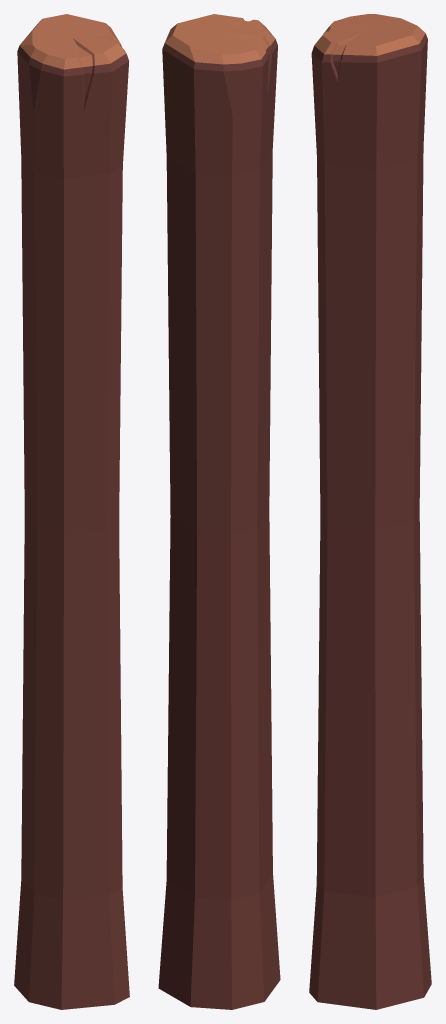
Rendered from Wooden Pole Blunt 15.fbx.
The picture shows the model from 3 angles, left to right: view 1: azimuth 90°, elevation 25°; view 2: azimuth 150°, elevation 25°; view 3: azimuth 330°, elevation 25°; orthographic projection.
Visible parts, largest first — view 1: Wooden Pole Blunt 15; view 2: Wooden Pole Blunt 15; view 3: Wooden Pole Blunt 15.
Boxes of the visible parts, x1,y1,x2,y2 form: Wooden Pole Blunt 15: [14, 14, 129, 1009]; Wooden Pole Blunt 15: [158, 14, 280, 1009]; Wooden Pole Blunt 15: [309, 14, 431, 1009].
Bounding box in the file's own units: 30.39 × 273 × 30.08.
